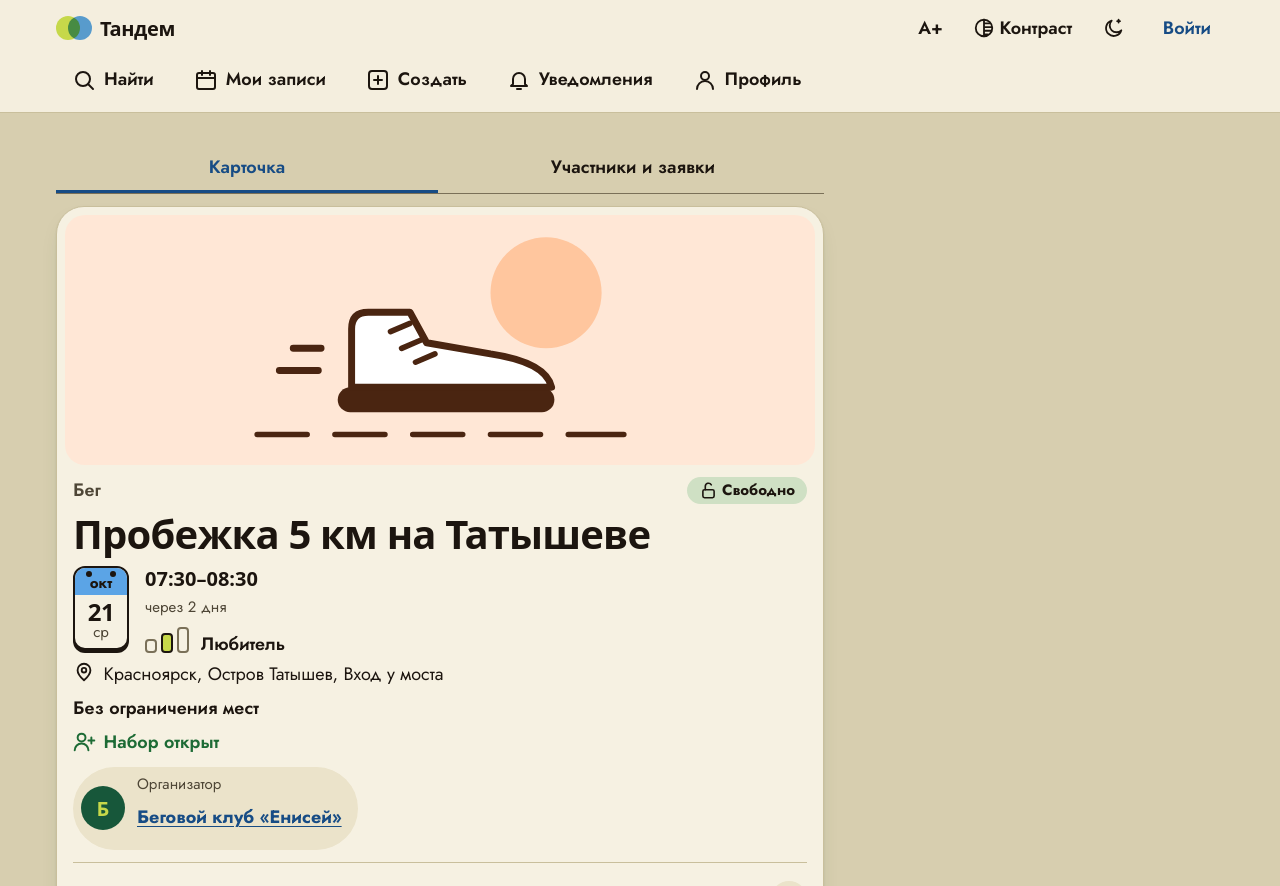
Test: карточка мероприятия › мест нет — «Принять» неактивна с подсказкой
Click the tab "Участники и заявки" at (633, 169), box [442,145,824,193]
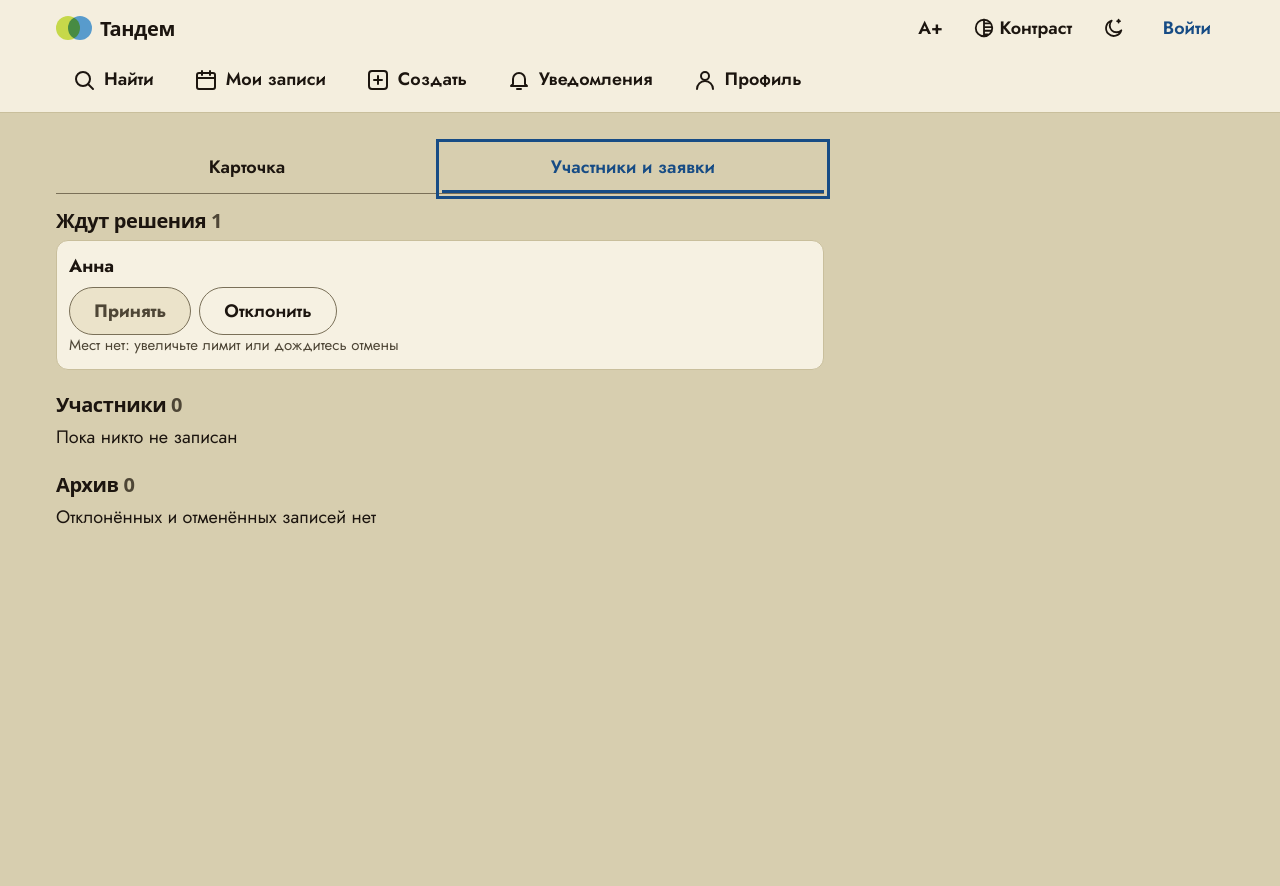
Expected: the button "Принять" is disabled, [69,287,191,335]
Expected: the text "Мест нет: увеличьте лимит или дождитесь отмены" is shown, [69,334,399,356]
